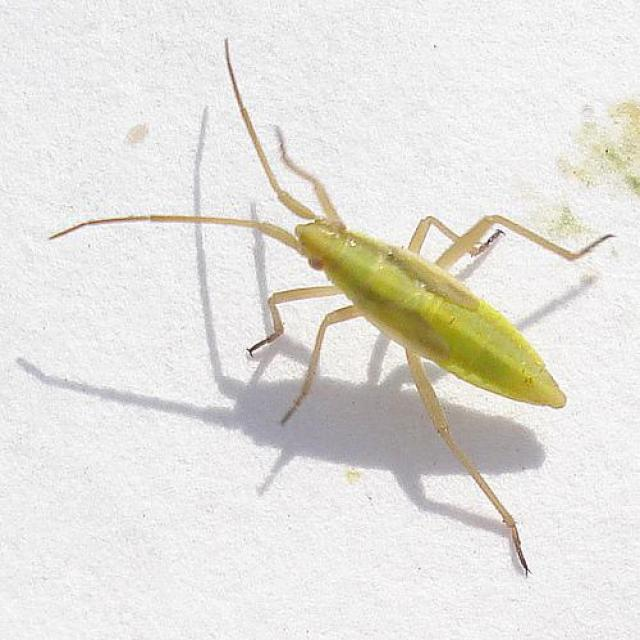Miridae-Adult-: (52, 26, 621, 582)
